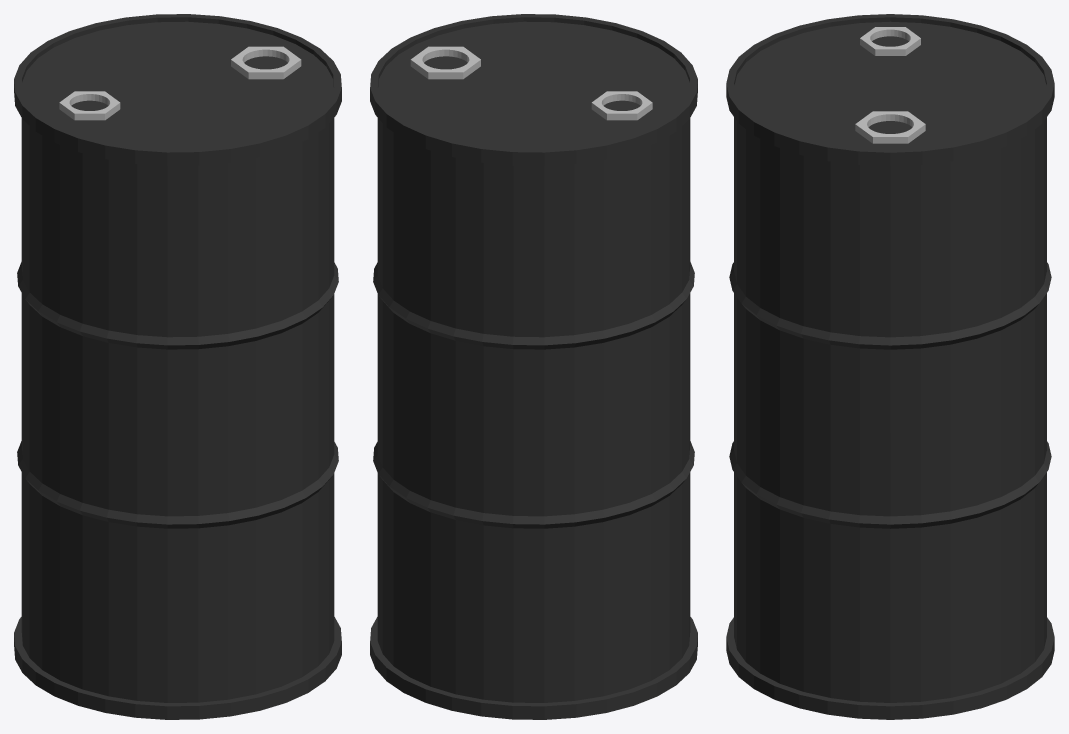
File: drumCan.obj
3 renders of one model, left to right at view 1: azimuth 30°, elevation 25°; view 2: azimuth 150°, elevation 25°; view 3: azimuth 270°, elevation 25°, orthographic.
Visible parts, largest first — view 1: 円柱.002; view 2: 円柱.002; view 3: 円柱.002.
Boxes of the visible parts, left/top/right/bottom form: 円柱.002: left=14, top=14, right=341, bottom=719; 円柱.002: left=370, top=14, right=697, bottom=719; 円柱.002: left=726, top=14, right=1054, bottom=719.
Bounding box in the file's own units: 2.1 × 4.02 × 2.1.
Materials: 1 (1 with a texture image).
